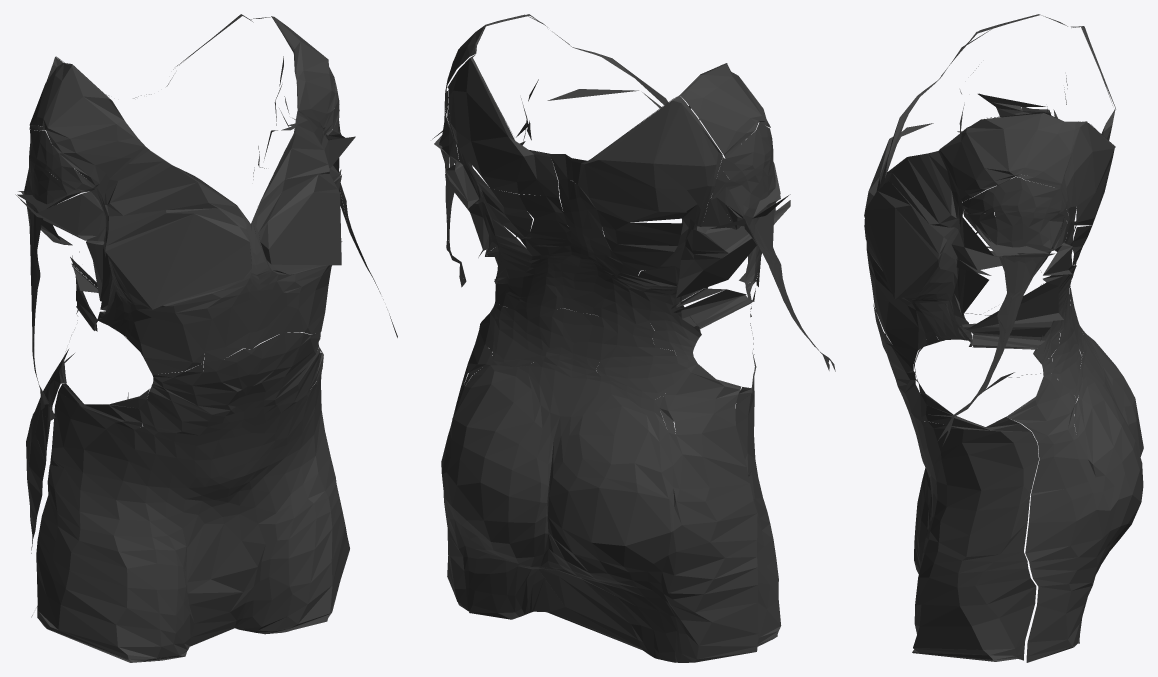
File: cc_cutout.glb
3 renders of one model, left to right at view 1: azimuth 30°, elevation 25°; view 2: azimuth 150°, elevation 25°; view 3: azimuth 270°, elevation 25°, orthographic. The views are drawn at different scales.
Parts seen in each view (by area): view 1: geometry_0; view 2: geometry_0; view 3: geometry_0.
Part boxes in pixels (x1,y1,x2,y2): geometry_0: (15,14,397,662); geometry_0: (432,14,835,662); geometry_0: (864,14,1143,662).
Bounding box in the file's own units: 0.2974 × 0.4575 × 0.2081.
1 material, 1 textured.
